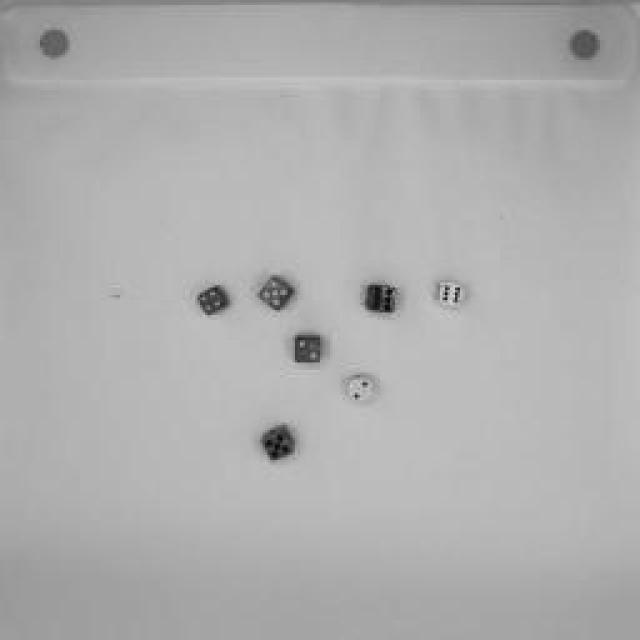dice_2: (290, 332, 328, 366), (346, 372, 376, 408)
dice_4: (198, 284, 232, 316)
dice_5: (258, 270, 294, 312), (261, 425, 299, 460)
dice_6: (360, 278, 402, 318), (434, 275, 466, 310)
